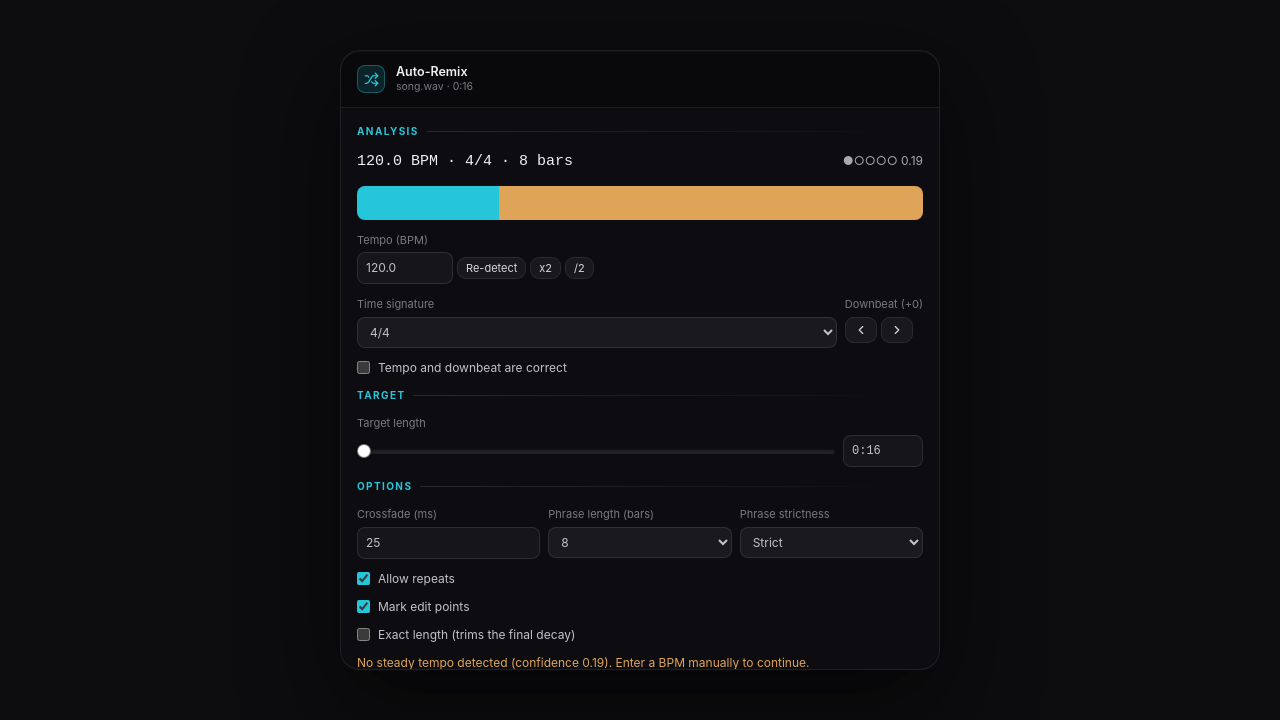
it: RemixDialog › 5. a low-confidence analysis hints for a manual BPM, keeps the field editable and re-enables Create
Expected: the text with test id "remix-hint" reads "No steady tempo detected (confidence 0.19). Enter a BPM manually to continue.", [357,655,810,669]
Replace the text in the number field with test id "remix-bpm" with "128": (405, 268) [357,252,453,284]
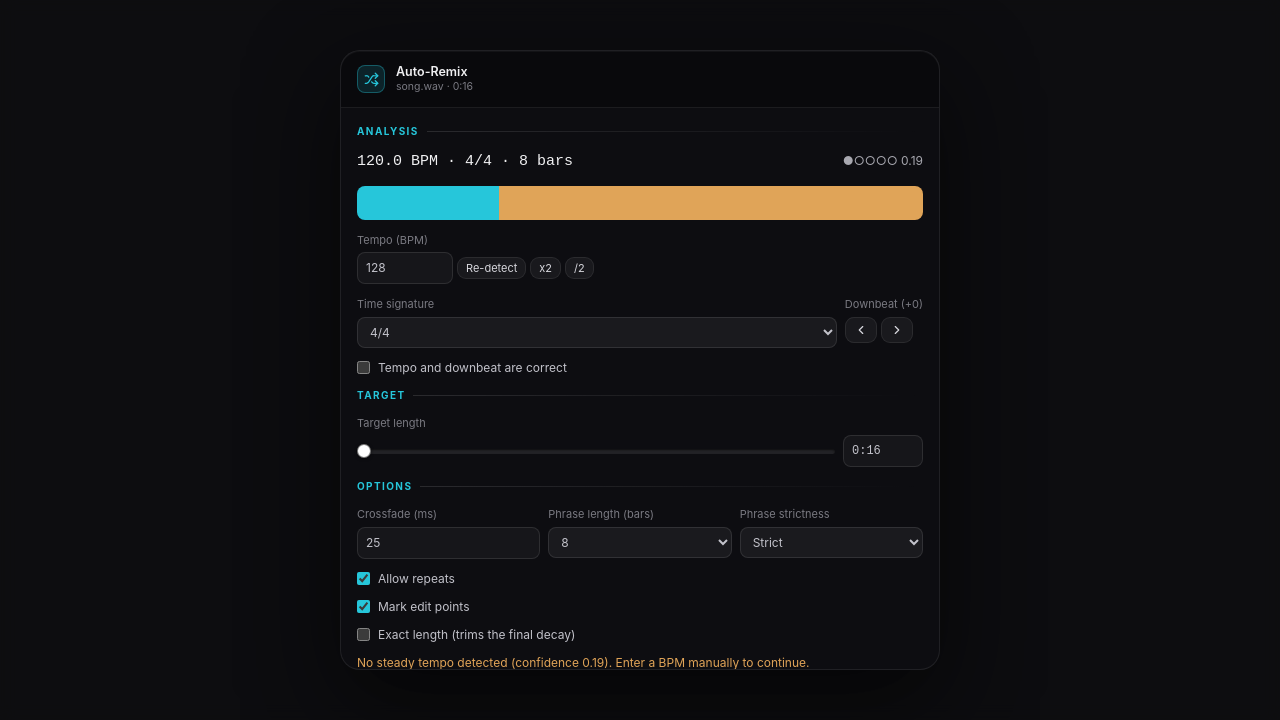
Click the button with test id "remix-redetect": (492, 268) [457,257,526,280]
(page scrolled)
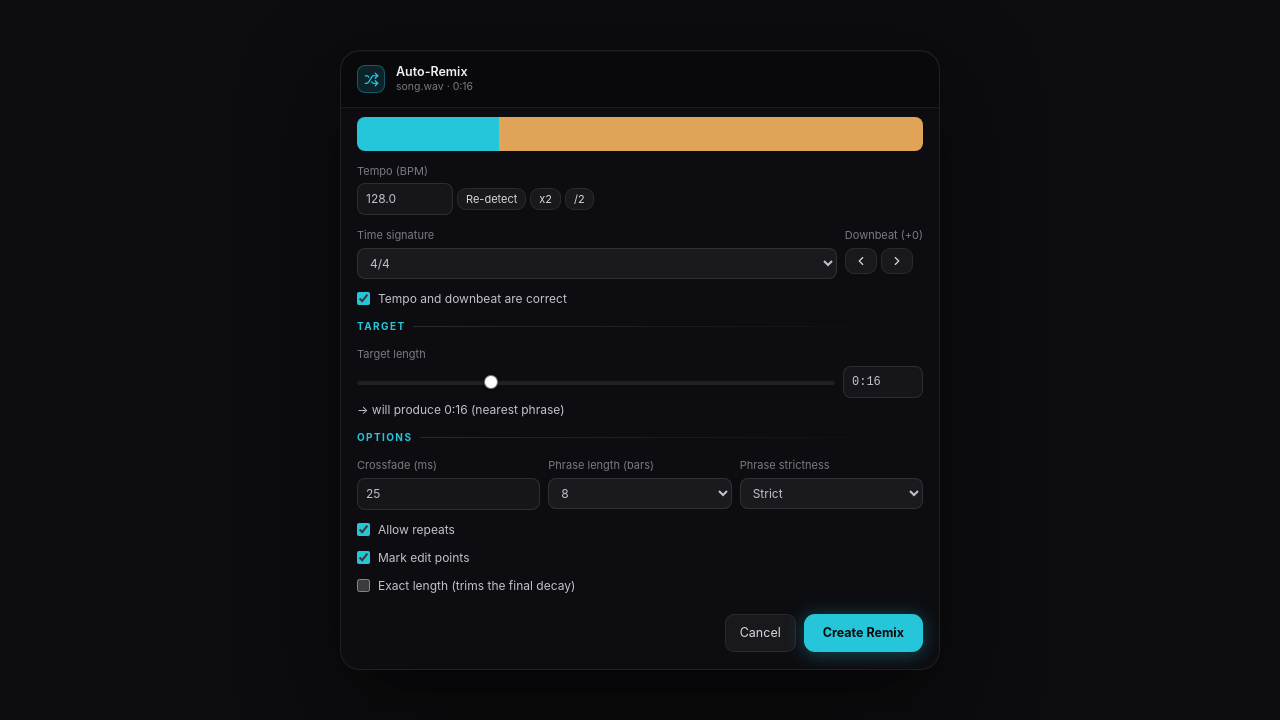
Expected: the text with test id "remix-hint" is gone
Expected: the button "Create Remix" is enabled, [804,614,923,652]
